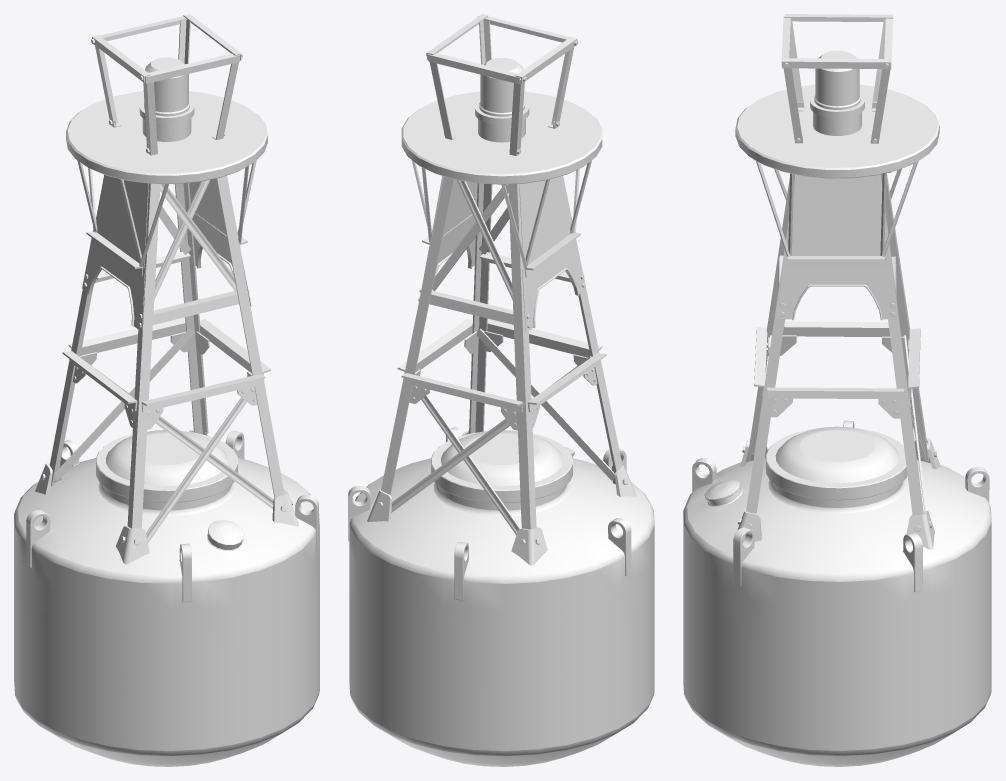
Rendered from buoy_ps.obj.
3 views of the same model, side by side, from view 1: azimuth 30°, elevation 25°; view 2: azimuth 150°, elevation 25°; view 3: azimuth 270°, elevation 25° (orthographic).
Parts seen in each view (by area): view 1: objMesh; view 2: objMesh; view 3: objMesh.
Boxes of the visible parts, x1=… form: objMesh: x1=14, y1=14, x2=319, y2=766; objMesh: x1=348, y1=14, x2=654, y2=766; objMesh: x1=683, y1=14, x2=991, y2=766.
Size of the model in its own units: 39.61 by 100 by 39.45.
1 material, 1 textured.
